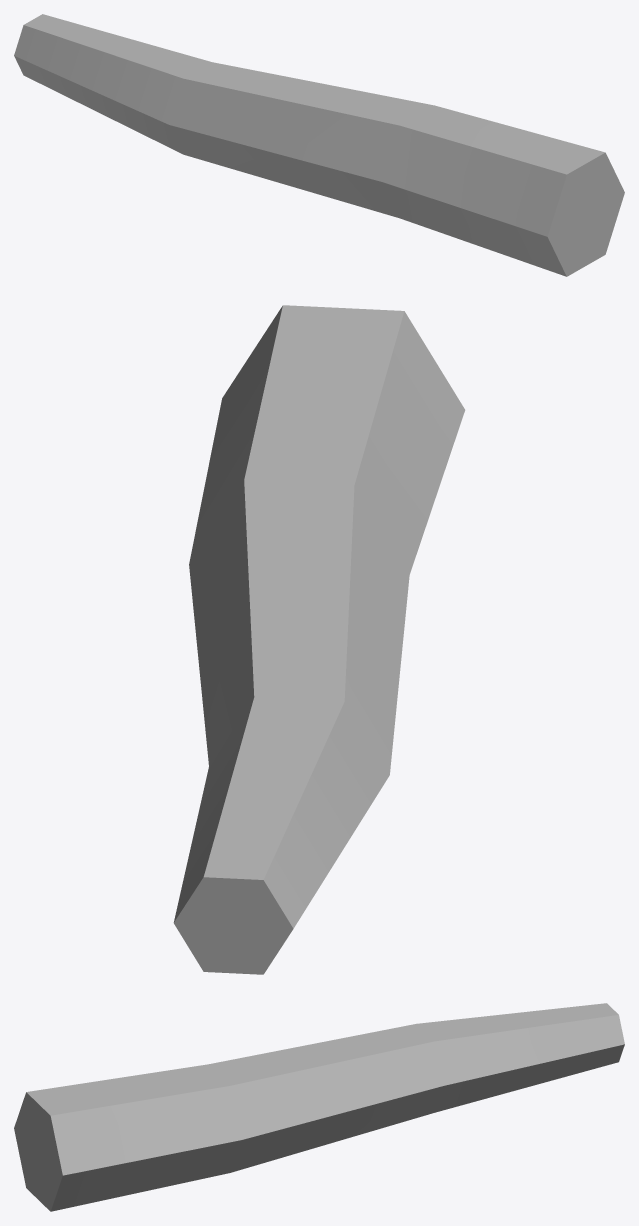
File: Tree3_Model.fbx
3 renders of one model, top to bottom at view 1: azimuth 30°, elevation 25°; view 2: azimuth 150°, elevation 25°; view 3: azimuth 270°, elevation 25°, orthographic. The views are drawn at different scales.
Visible parts, largest first — view 1: pCylinder4; view 2: pCylinder4; view 3: pCylinder4.
Part boxes in pixels (bbox=[...]): pCylinder4: bbox=[14, 14, 624, 276]; pCylinder4: bbox=[173, 305, 465, 974]; pCylinder4: bbox=[14, 1003, 624, 1211].
Size of the model in its own units: 4.21 by 1.27 by 7.31.
